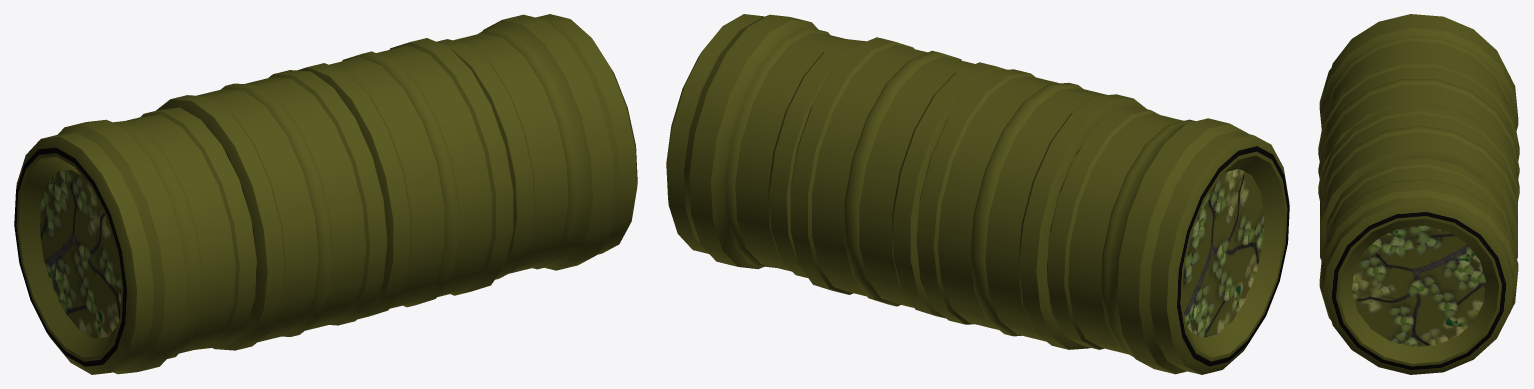
File: pipe_long_b.FBX
The picture shows the model from 3 angles, left to right: view 1: azimuth 30°, elevation 25°; view 2: azimuth 150°, elevation 25°; view 3: azimuth 270°, elevation 25°; orthographic projection. The views are drawn at different scales.
Parts seen in each view (by area): view 1: pipe_long_b; view 2: pipe_long_b; view 3: pipe_long_b.
Part boxes in pixels (box(x1,y1,x2,y2)): pipe_long_b: box(14, 14, 637, 374); pipe_long_b: box(666, 14, 1289, 374); pipe_long_b: box(1318, 14, 1519, 374).
Bounding box in the file's own units: 3.61 × 1.59 × 1.59.
